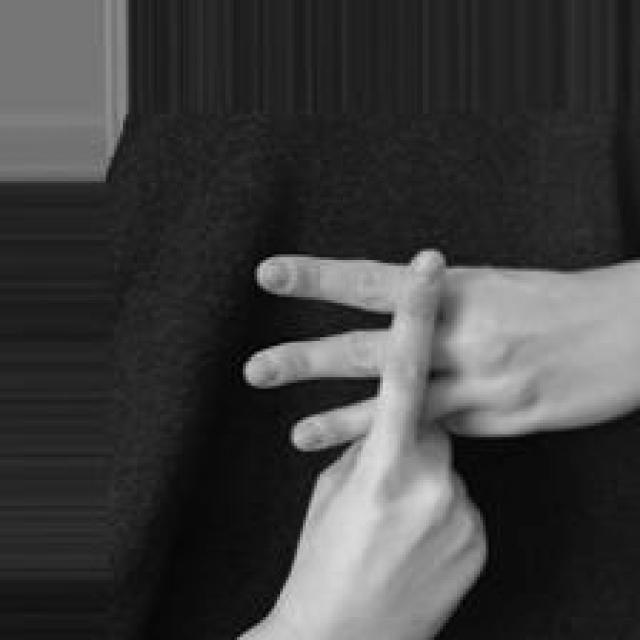E: (237, 245, 640, 640)
